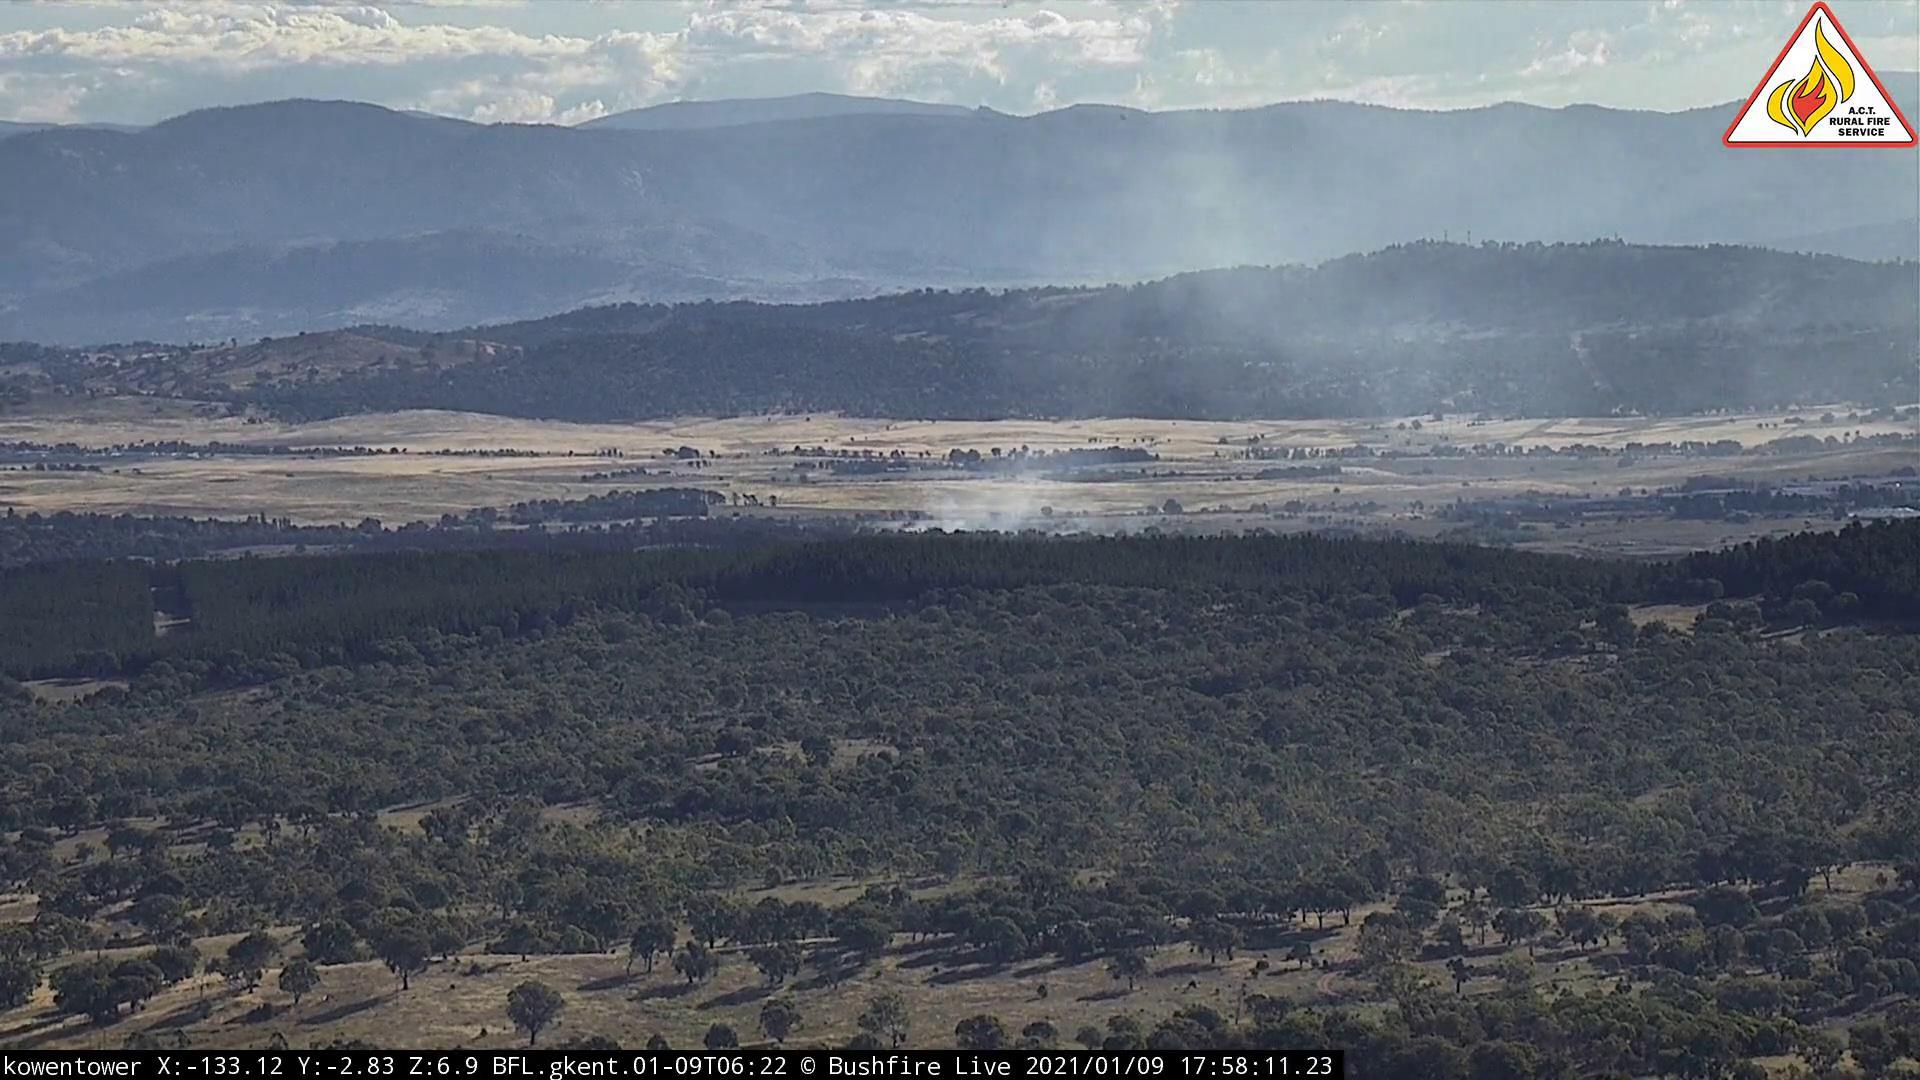Smoke: (890, 136, 1509, 542)
